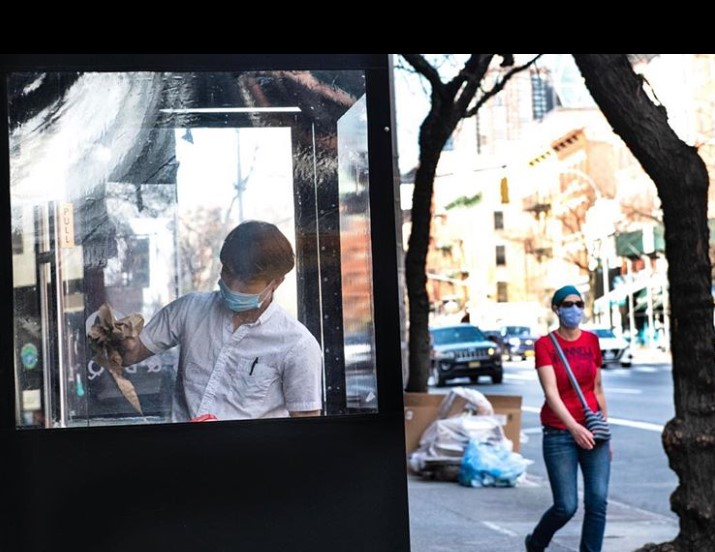face_with_mask: (216, 222, 293, 314), (551, 285, 584, 329)
